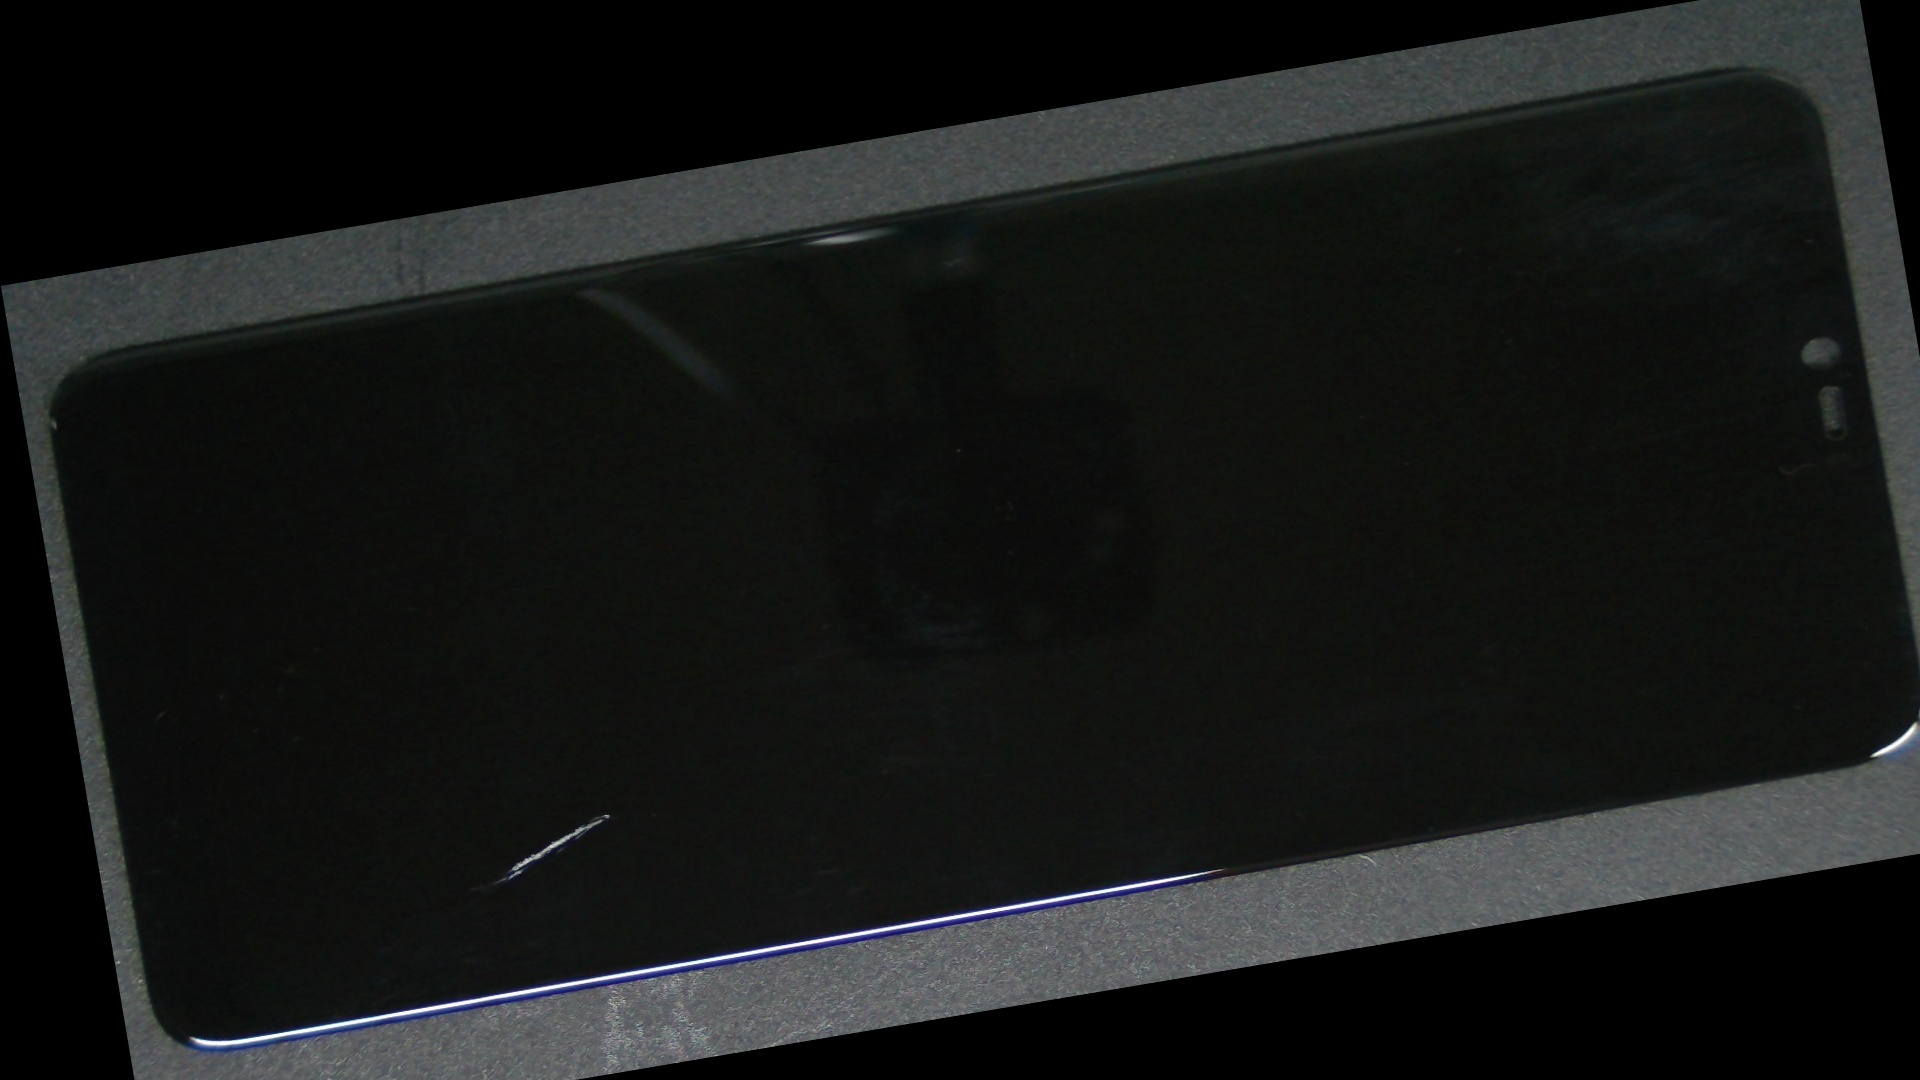oil: (302, 465, 893, 1080)
